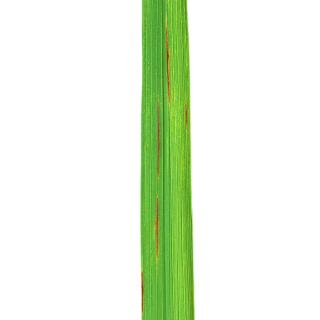Bercak-Cokelat-Sempit: (161, 12, 174, 106), (154, 96, 162, 180), (136, 267, 150, 315), (154, 190, 162, 262), (182, 95, 192, 135)
